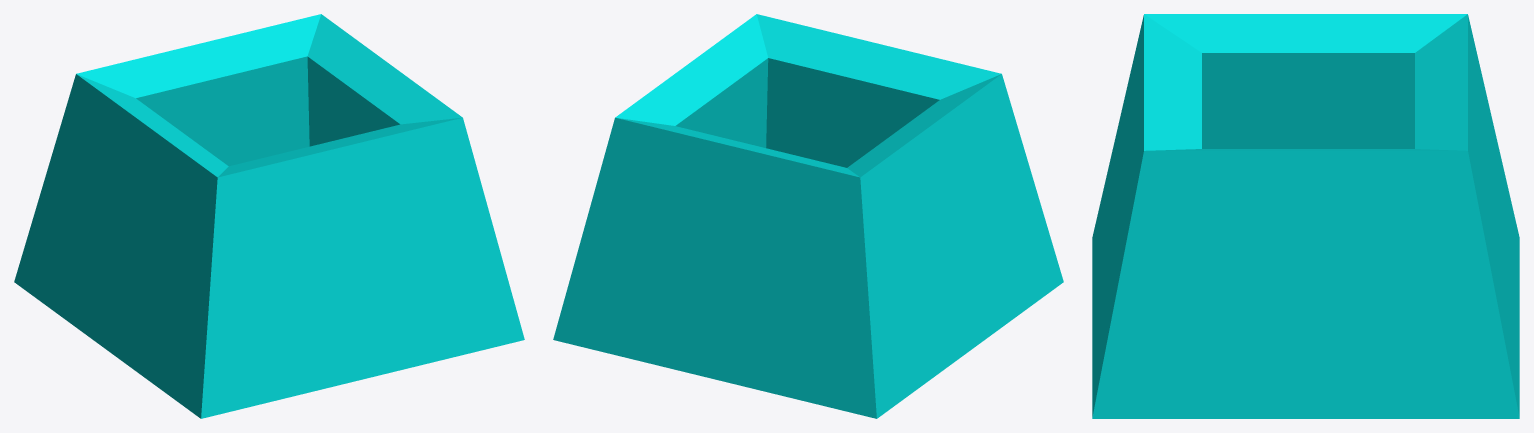
File: SM_Prop_Well_01_Collision.fbx
3 views of the same model, side by side, from view 1: azimuth 30°, elevation 25°; view 2: azimuth 150°, elevation 25°; view 3: azimuth 270°, elevation 25° (orthographic). The views are drawn at different scales.
Visible parts, largest first — view 1: SM_Prop_Well_01_Collision; view 2: SM_Prop_Well_01_Collision; view 3: SM_Prop_Well_01_Collision.
Part boxes in pixels (<box>): SM_Prop_Well_01_Collision: <box>14,14,524,418</box>; SM_Prop_Well_01_Collision: <box>553,14,1063,418</box>; SM_Prop_Well_01_Collision: <box>1092,14,1519,418</box>.
Bounding box in the file's own units: 143 × 91.08 × 143.
